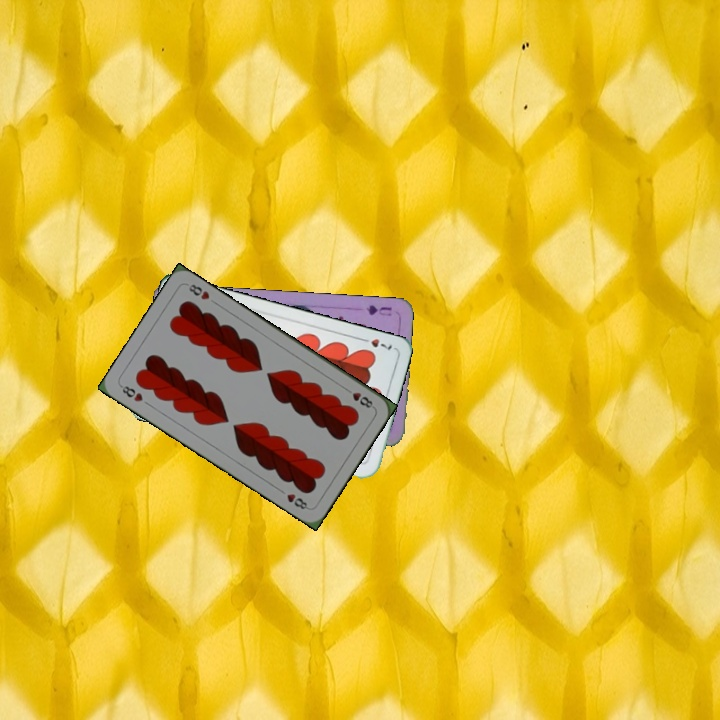GU: (362, 301, 394, 318)
H7: (356, 334, 395, 352)
H8: (340, 384, 376, 411), (117, 382, 145, 404)
